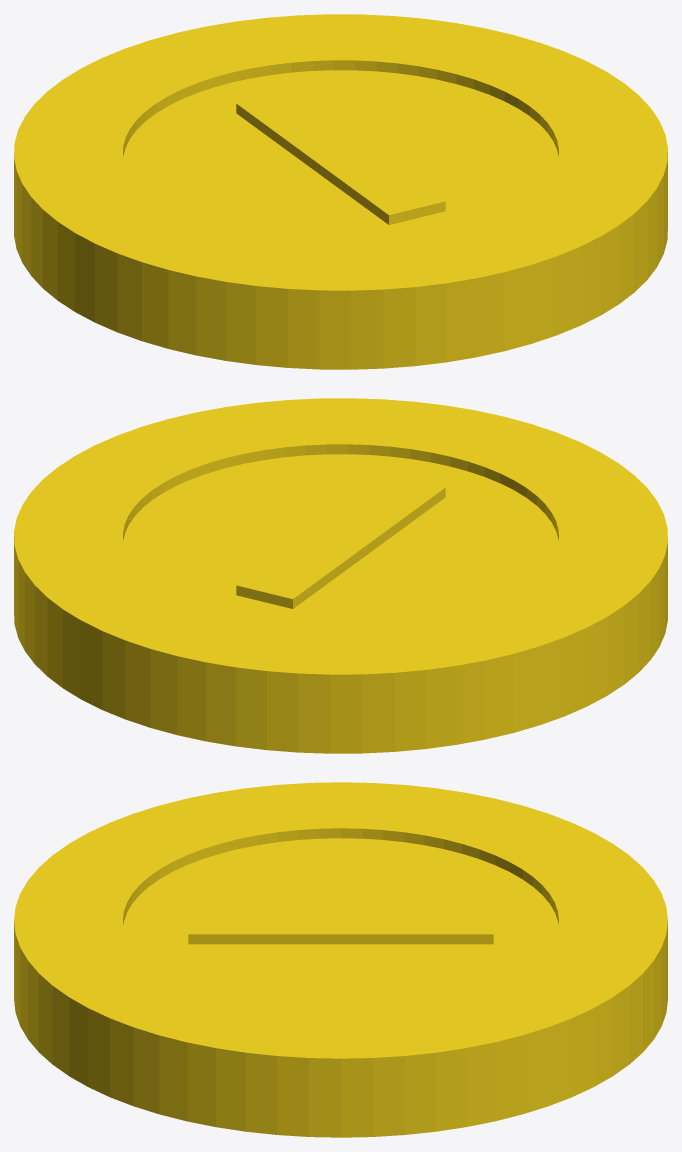
File: tinker.obj
3 views of the same model, one above another, from view 1: azimuth 30°, elevation 25°; view 2: azimuth 150°, elevation 25°; view 3: azimuth 270°, elevation 25° (orthographic).
Visible parts, largest first — view 1: obj_0; view 2: obj_0; view 3: obj_0.
Boxes of the visible parts, bbox=[...] form: obj_0: bbox=[14, 14, 667, 369]; obj_0: bbox=[14, 398, 667, 753]; obj_0: bbox=[14, 782, 667, 1137].
Bounding box in the file's own units: 30 × 4 × 30.
